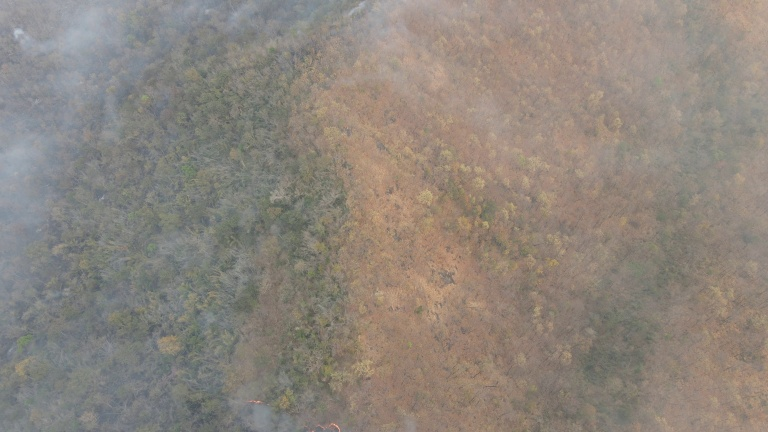fire: (232, 396, 352, 432)
smoke: (1, 1, 186, 432), (203, 1, 530, 95), (228, 383, 415, 432)
